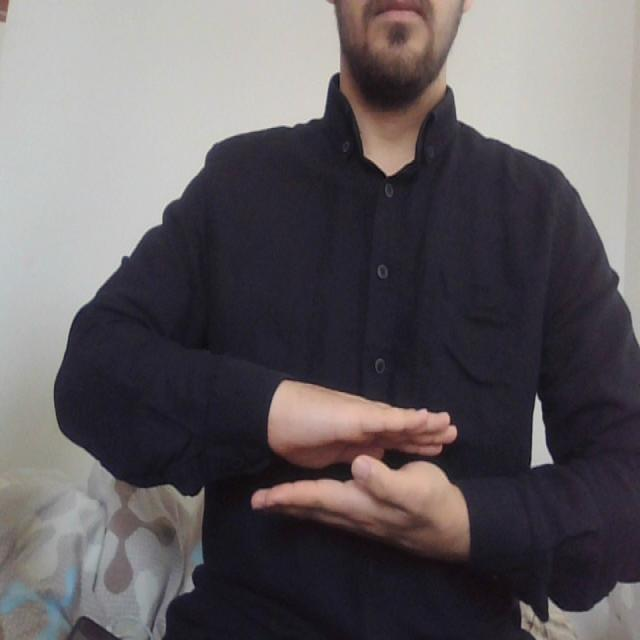Arkadas: (239, 366, 481, 548)
